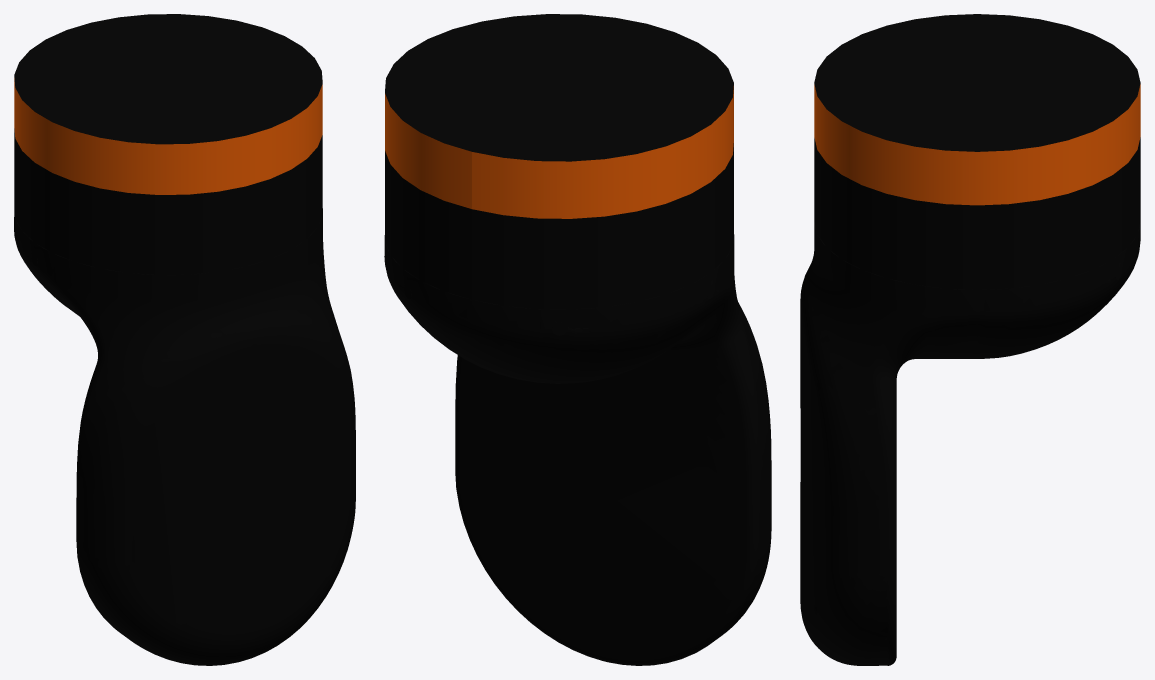
File: Joint3.dae
3 renders of one model, left to right at view 1: azimuth 30°, elevation 25°; view 2: azimuth 150°, elevation 25°; view 3: azimuth 270°, elevation 25°, orthographic. The views are drawn at different scales.
Parts seen in each view (by area): view 1: Object-1; view 2: Object-1; view 3: Object-1.
Part boxes in pixels (left/top/right/bottom): Object-1: left=14, top=14, right=355, bottom=665; Object-1: left=384, top=14, right=771, bottom=665; Object-1: left=800, top=14, right=1140, bottom=665.
Bounding box in the file's own units: 0.105 × 0.1095 × 0.2015.
